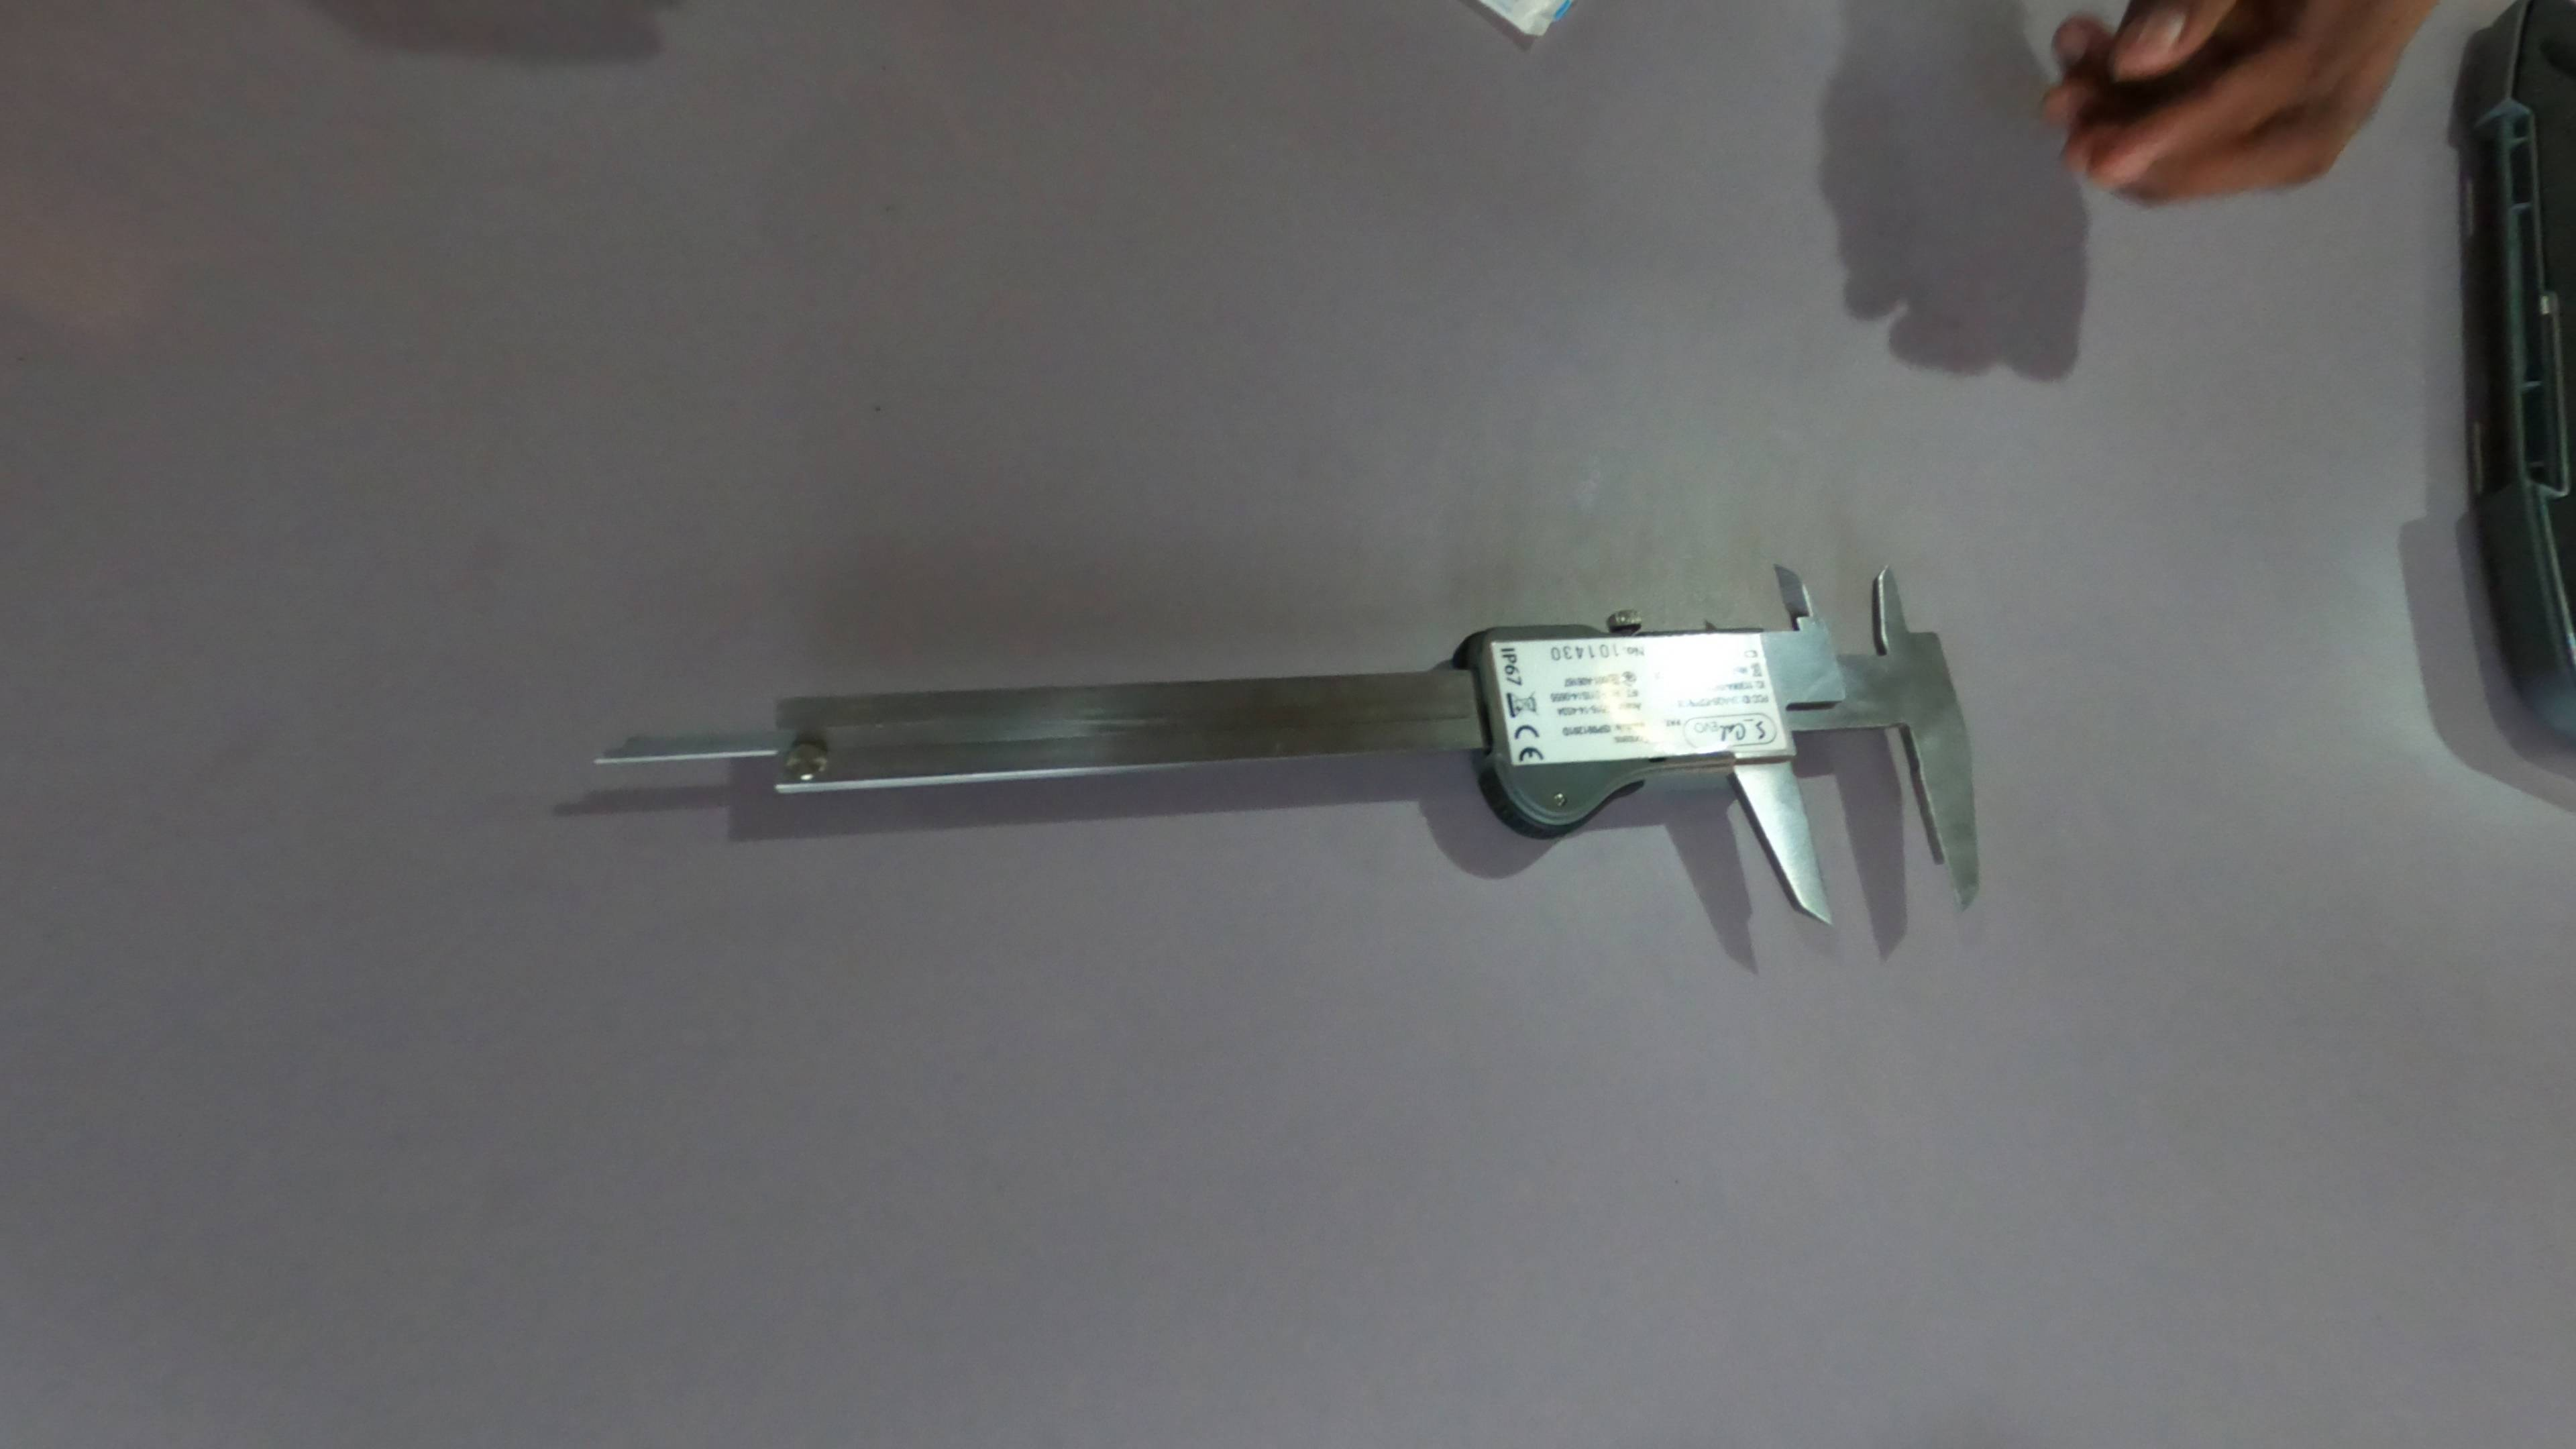vernier_caliper: (594, 554, 1985, 915)
